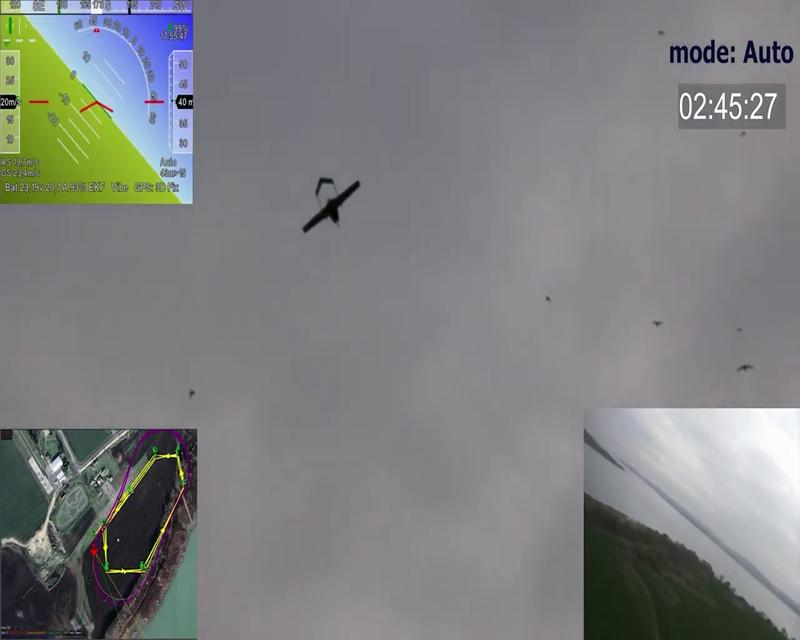UAV: (301, 176, 364, 234)
